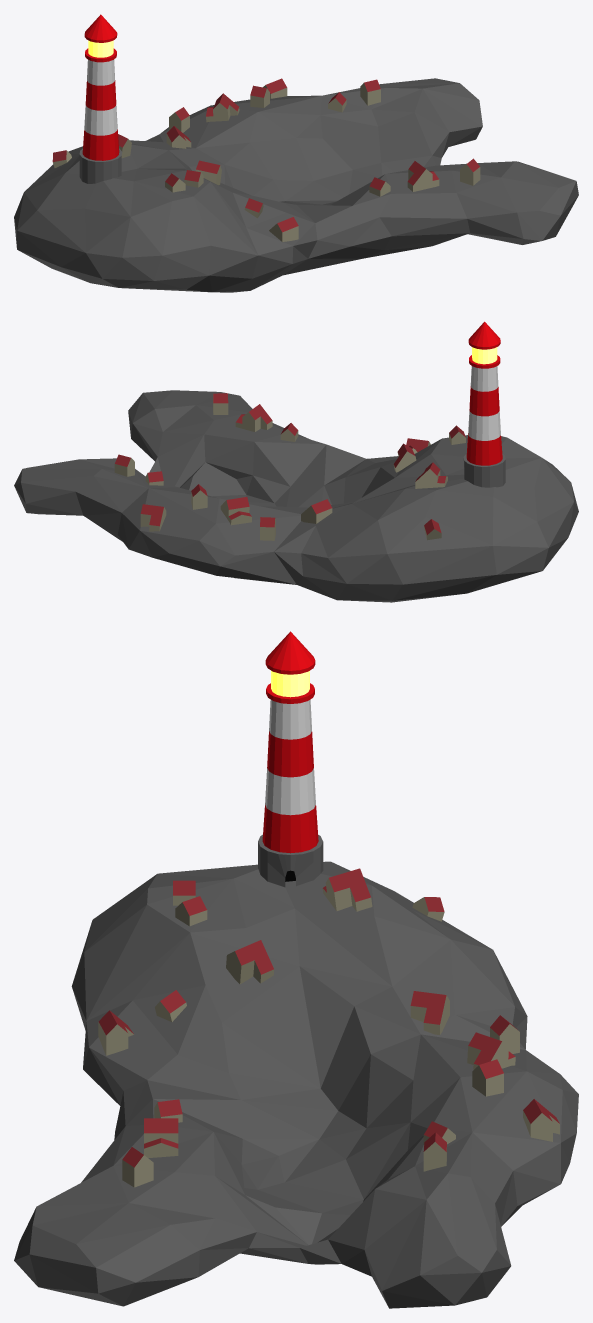
File: MiniHouses.glb
3 views of the same model, one above another, from view 1: azimuth 30°, elevation 25°; view 2: azimuth 150°, elevation 25°; view 3: azimuth 270°, elevation 25° (orthographic). The views are drawn at different scales.
Visible parts, largest first — view 1: BaseRock, Lighthouse, Cube.004, Cube.006, Cube.011, Cube.010, Cube.017, Cube.009, Cube.015, Cube.001, Cube.007; view 2: BaseRock, Lighthouse, Cube.006, Cube.004, Cube.002, Cube.014, Cube.015, Cube.017, Cube.010, Cube.007; view 3: BaseRock, Lighthouse, Cube.014, Cube.017, Cube.004, Cube.015, Cube.006, Cube.011, Cube.002, Cube.009, Cube.001.
Part boxes in pixels (box(x1,y1,x2,y2)): BaseRock: box(14, 78, 578, 292); Lighthouse: box(79, 14, 122, 183); Cube.004: box(407, 161, 439, 191); Cube.006: box(206, 93, 239, 122); Cube.011: box(269, 217, 298, 242); Cube.010: box(360, 79, 380, 105); Cube.017: box(195, 160, 221, 185); Cube.009: box(460, 158, 480, 185); Cube.015: box(166, 126, 191, 148); Cube.001: box(250, 85, 269, 107); Cube.007: box(169, 107, 189, 132); BaseRock: box(14, 390, 578, 602); Lighthouse: box(463, 321, 505, 487); Cube.006: box(220, 497, 251, 525); Cube.004: box(235, 404, 272, 431); Cube.002: box(140, 504, 166, 531); Cube.014: box(415, 462, 447, 488); Cube.015: box(301, 499, 332, 523); Cube.017: box(393, 443, 416, 472); Cube.010: box(114, 454, 134, 476); Cube.007: box(260, 517, 275, 540); BaseRock: box(14, 861, 578, 1308); Lighthouse: box(258, 631, 323, 887); Cube.014: box(322, 868, 372, 911); Cube.017: box(226, 940, 274, 984); Cube.004: box(144, 1118, 178, 1157); Cube.015: box(410, 991, 449, 1034); Cube.006: box(467, 1032, 515, 1069); Cube.011: box(98, 1010, 133, 1055); Cube.002: box(523, 1099, 559, 1141); Cube.009: box(122, 1147, 153, 1187); Cube.001: box(472, 1059, 503, 1096).
Size of what is drawn, in the model's own units: 12.2 by 6.62 by 7.96.
